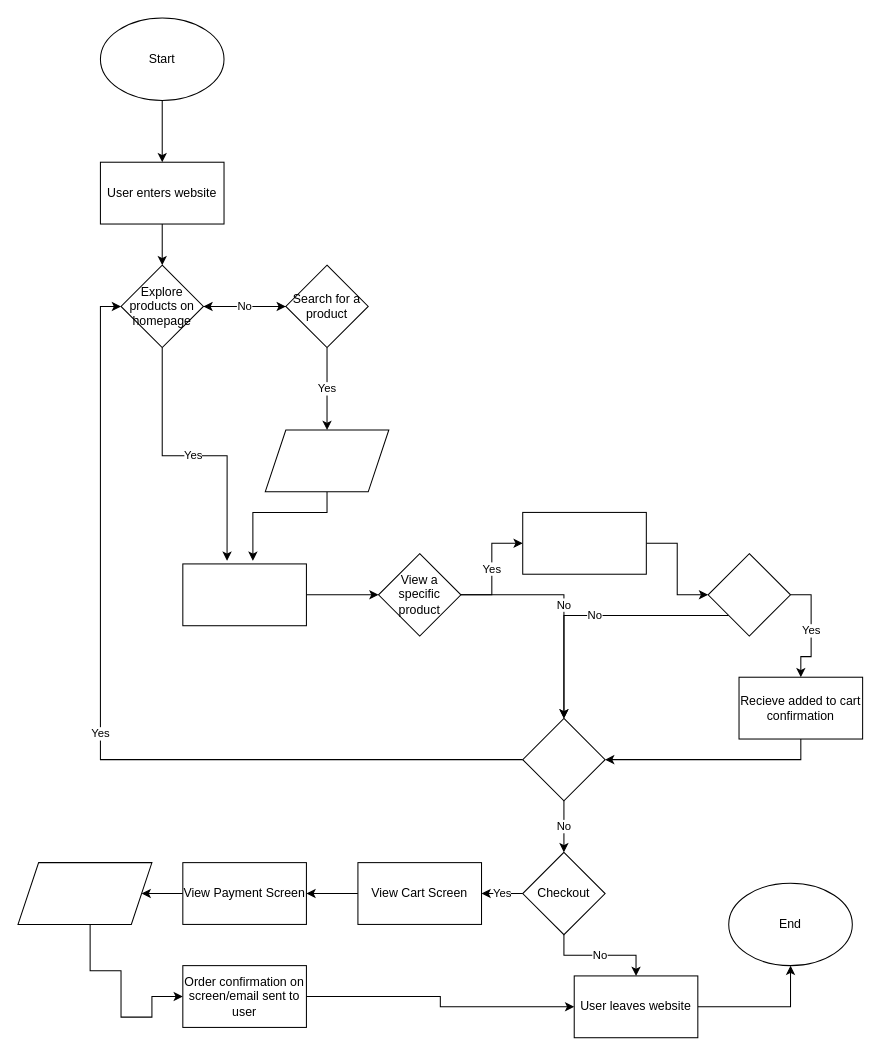
Some shapes in this 881 by 1056 pixel diagram are drawn without their labels. Each missing label, with the box of its shape:
Add this item to the cart: (707, 553, 791, 636)
Continue shopping: (522, 717, 605, 801)
Product's webpage will open: (522, 511, 646, 574)
User begins looking over products: (182, 563, 306, 626)
User inputs payment info: (17, 862, 152, 924)
User provides input to webite of their search: (264, 429, 389, 492)
